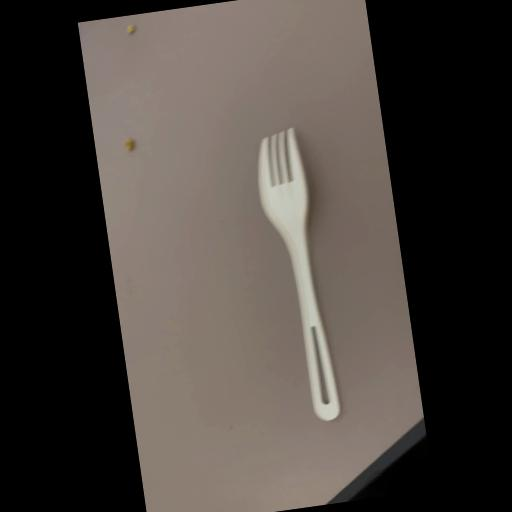utensil: (244, 124, 346, 428)
